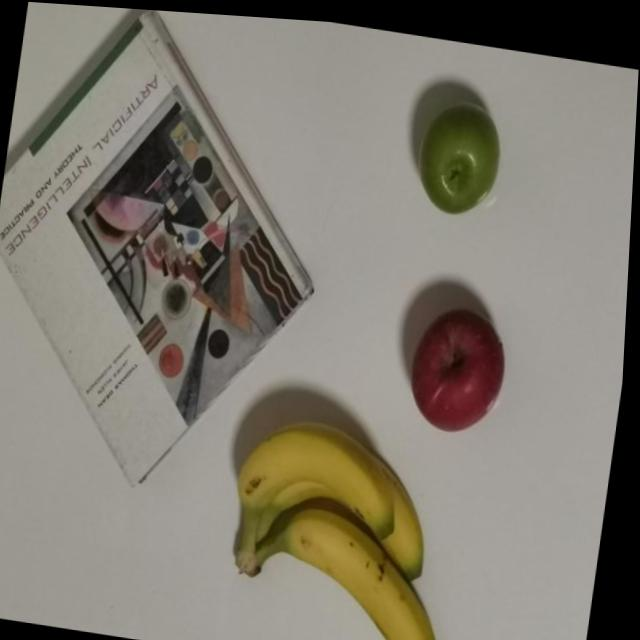Apple: (400, 295, 517, 434), (413, 95, 505, 208)
Banana: (208, 396, 499, 640)
Book: (0, 0, 348, 509)
